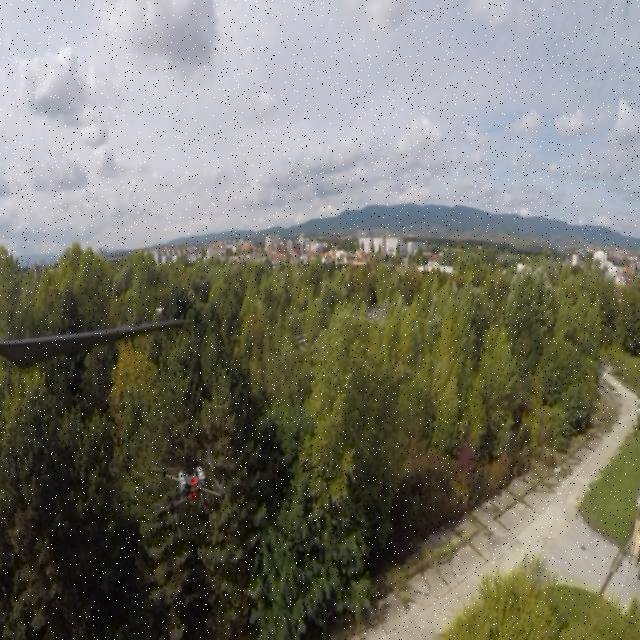UAV: (149, 453, 223, 539)
